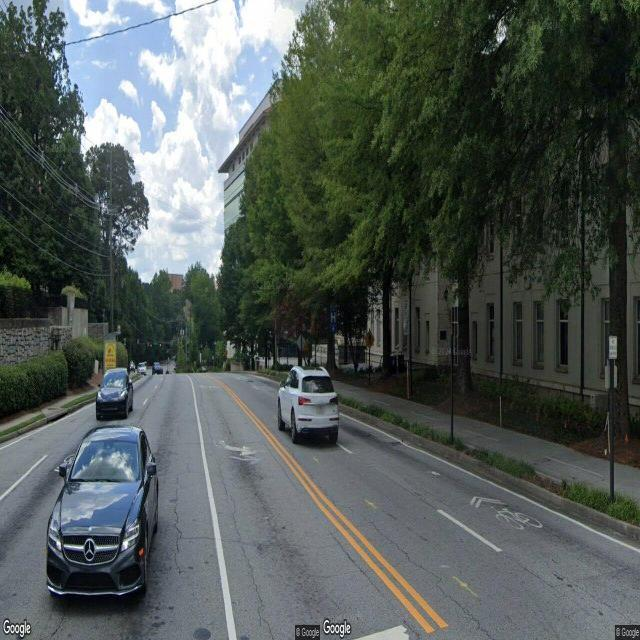shelter: (102, 330, 122, 376)
